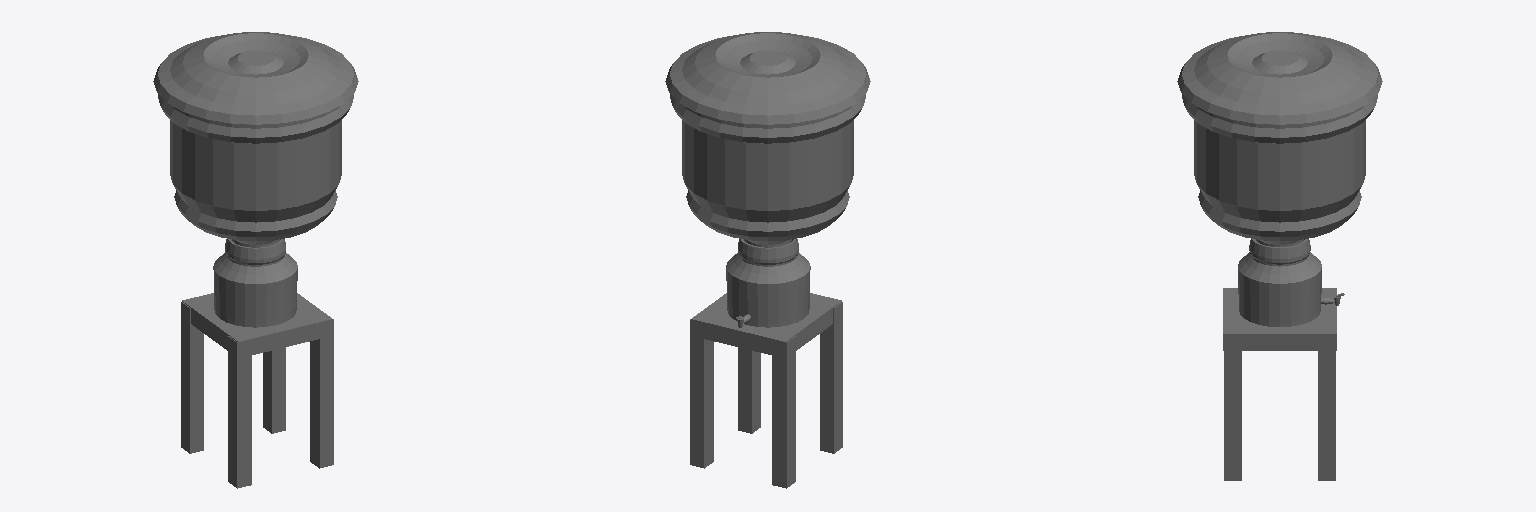
Rendered from Water_Bottle_01_ScaledFU.obj.
The picture shows the model from 3 angles: view 1: azimuth 30°, elevation 25°; view 2: azimuth 150°, elevation 25°; view 3: azimuth 270°, elevation 25°; orthographic projection.
Parts seen in each view (by area): view 1: Water_Bottle_01.obj; view 2: Water_Bottle_01.obj; view 3: Water_Bottle_01.obj.
Boxes of the visible parts, <box> form: Water_Bottle_01.obj: <box>153,32,358,488</box>; Water_Bottle_01.obj: <box>665,32,870,488</box>; Water_Bottle_01.obj: <box>1177,32,1382,480</box>.
Size of the model in its own units: 0.9965 by 2.15 by 0.9965.